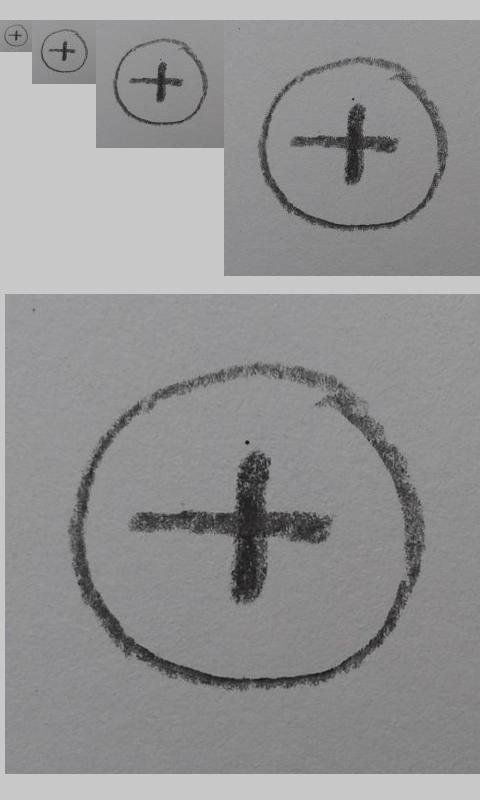button: (69, 359, 426, 692), (257, 56, 449, 232), (113, 37, 209, 127), (40, 29, 88, 73), (4, 24, 29, 47)
